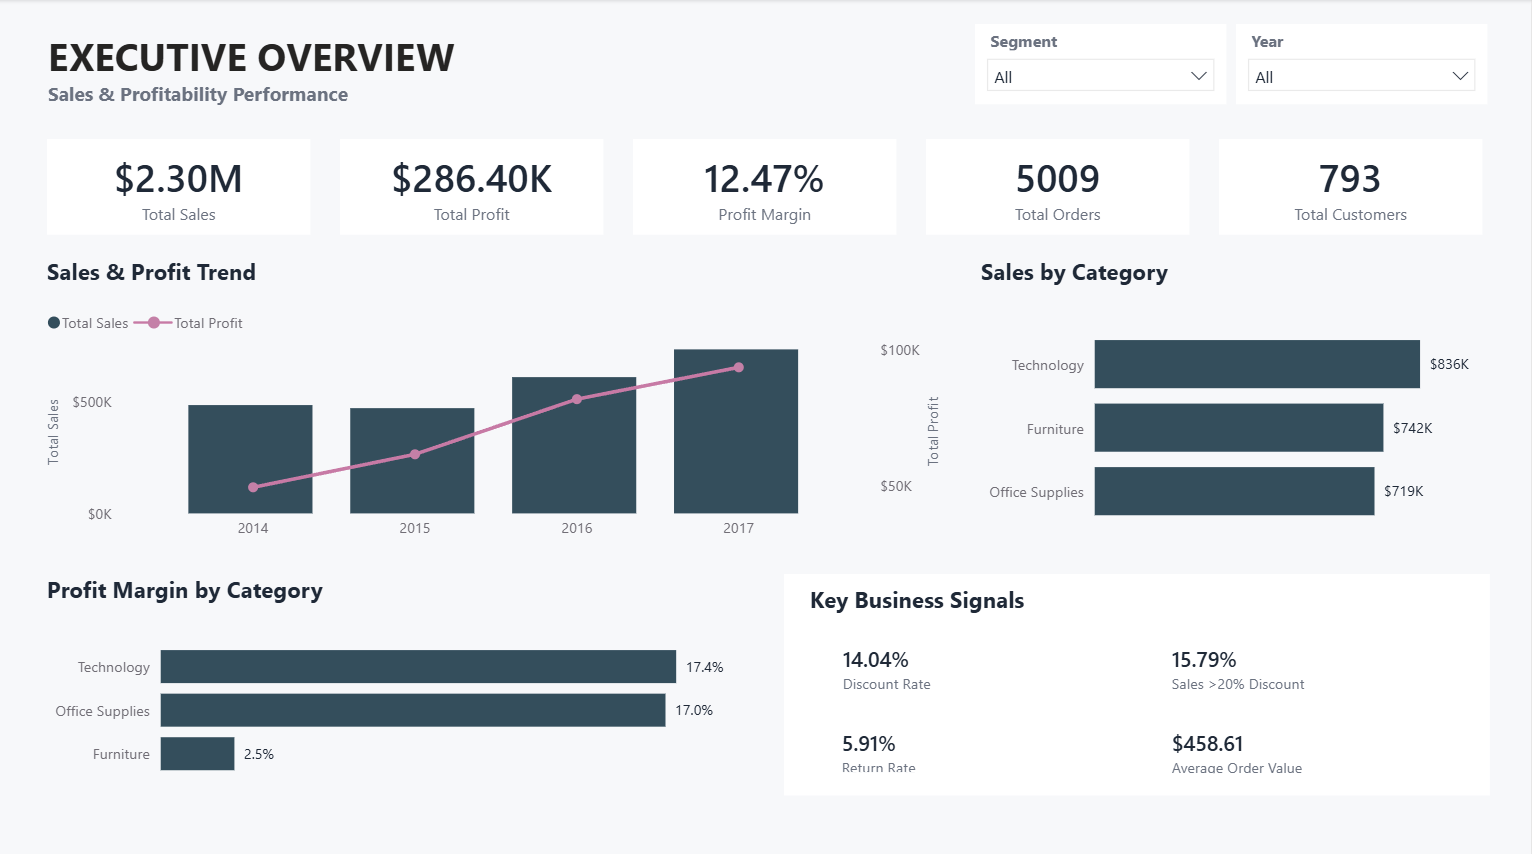

The page's visual inventory and layout, read from the dashboard file:
{"tool":"powerbi","page":{"name":"Executive Overview","canvas":[1280,720],"ordinal":0},"visuals":[{"type":"textbox","box":[35.6,20,650,85.9],"z":0},{"type":"lineClusteredColumnComboChart","title":"Sales & Profit Trend","fields":{"Category":["DimDate.Year"],"Y":["Measure.Total Sales"],"Y2":["Measure.Total Profit"]},"box":[35,215,760,245],"z":1000},{"type":"clusteredBarChart","title":"Sales by Category","fields":{"Category":["DimProduct.Category"],"Y":["Measure.Total Sales"]},"box":[815,215,430,245],"z":2000},{"type":"clusteredBarChart","fields":{"Category":["DimProduct.Category"],"Y":["Measure.Profit Margin"]},"box":[35,480,600,185],"z":3000},{"type":"shape","box":[655.6,480.2,589.6,185.3],"z":4000},{"type":"textbox","box":[672.5,483.8,193.8,38.8],"z":5000},{"type":"cardVisual","fields":{"Data":["Measure.Discount Rate %"]},"box":[675.5,525,274.9,69.7],"z":6000},{"type":"cardVisual","fields":{"Data":["Measure.Sales Above 20% Discount %"]},"box":[950.4,525,274.9,69.7],"z":7000},{"type":"cardVisual","fields":{"Data":["Measure.Return Rate %"]},"box":[675,595,275,68.8],"z":8000},{"type":"cardVisual","fields":{"Data":["Measure.Average Order Value"]},"box":[950.4,594.6,274.9,69.7],"z":9000},{"type":"cardVisual","fields":{"Data":["Measure.Total Sales"]},"box":[35,112,230,90],"z":10000},{"type":"cardVisual","fields":{"Data":["Measure.Total Profit"]},"box":[279.7,112,230,90],"z":11000},{"type":"cardVisual","fields":{"Data":["Measure.Profit Margin"]},"box":[524.4,112,230,90],"z":12000},{"type":"cardVisual","fields":{"Data":["Measure.Total Orders"]},"box":[769.1,112,230,90],"z":13000},{"type":"cardVisual","fields":{"Data":["Measure.Total Customers"]},"box":[1013.8,112,230,90],"z":14000},{"type":"slicer","fields":{"Values":["DimDate.Year"]},"box":[1033.3,20.5,210.3,66.7],"z":15000},{"type":"slicer","fields":{"Values":["DimCustomer.Segment"]},"box":[815.3,20.8,209.7,66.7],"z":16000}]}

Visuals, with their boxes in screenshot pixels (x1, y1, x2, y2), scaled from the page's 1280x720 canvas onto the 1532x854 screenshot:
textbox: rect(43, 24, 821, 126)
"Sales & Profit Trend" lineClusteredColumnComboChart: rect(42, 255, 952, 546)
"Sales by Category" clusteredBarChart: rect(975, 255, 1490, 546)
clusteredBarChart - DimProduct.Category x Measure.Profit Margin: rect(42, 569, 760, 789)
shape: rect(785, 570, 1490, 789)
textbox: rect(805, 574, 1037, 620)
cardVisual - Measure.Discount Rate %: rect(808, 623, 1138, 705)
cardVisual - Measure.Sales Above 20% Discount %: rect(1138, 623, 1467, 705)
cardVisual - Measure.Return Rate %: rect(808, 706, 1137, 787)
cardVisual - Measure.Average Order Value: rect(1138, 705, 1467, 788)
cardVisual - Measure.Total Sales: rect(42, 133, 317, 240)
cardVisual - Measure.Total Profit: rect(335, 133, 610, 240)
cardVisual - Measure.Profit Margin: rect(628, 133, 903, 240)
cardVisual - Measure.Total Orders: rect(921, 133, 1196, 240)
cardVisual - Measure.Total Customers: rect(1213, 133, 1489, 240)
slicer - DimDate.Year: rect(1237, 24, 1488, 103)
slicer - DimCustomer.Segment: rect(976, 25, 1227, 104)
